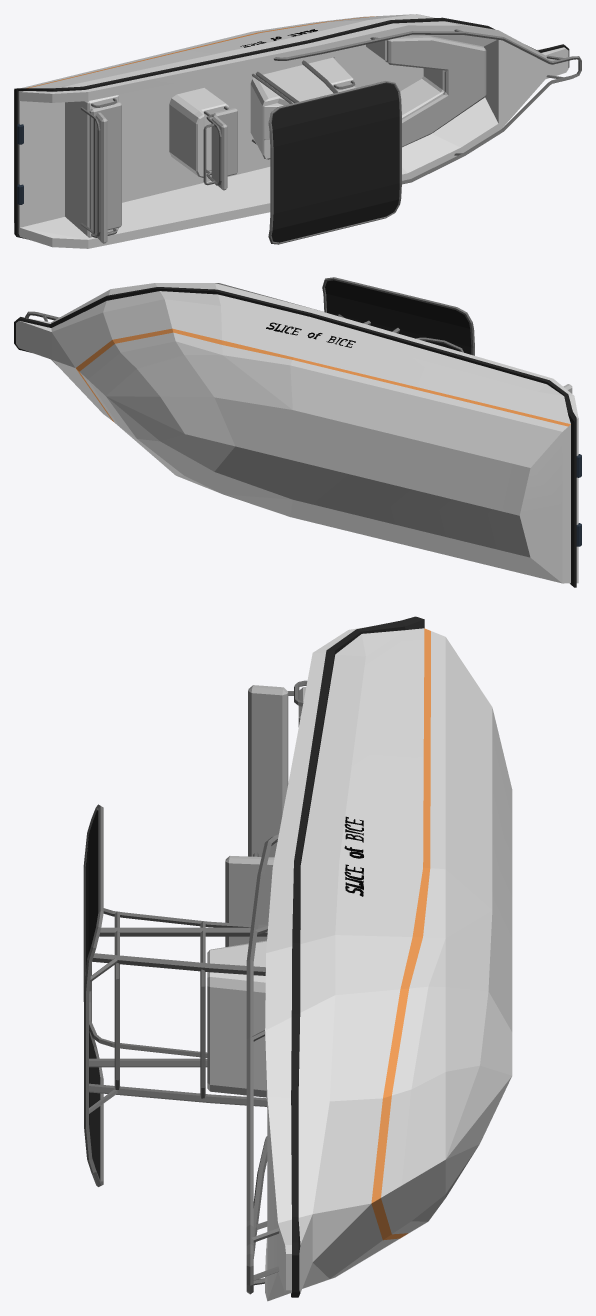
Rendered from SliceOfBiceNoMovables.glb.
The picture shows the model from 3 angles, top to bottom: view 1: azimuth 30°, elevation 25°; view 2: azimuth 150°, elevation 25°; view 3: azimuth 270°, elevation 25°; orthographic projection. The views are drawn at different scales.
Parts seen in each view (by area): view 1: SliceOfBiceNoMovables; view 2: SliceOfBiceNoMovables; view 3: SliceOfBiceNoMovables.
Part boxes in pixels (bbox=[...]): SliceOfBiceNoMovables: bbox=[14, 14, 581, 248]; SliceOfBiceNoMovables: bbox=[14, 277, 581, 587]; SliceOfBiceNoMovables: bbox=[83, 616, 512, 1301].
Bounding box in the file's own units: 9.12 × 2.64 × 3.22.
Materials: 1 (1 with a texture image).
